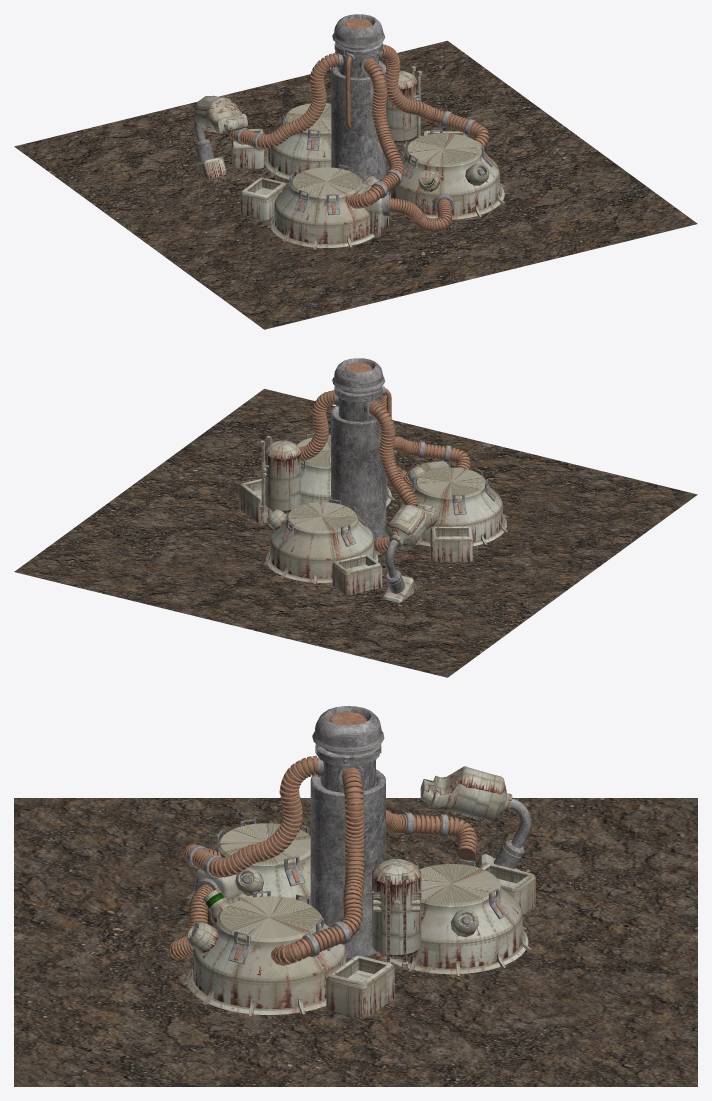
The model's file is static.fbx.
3 views of the same model, one above another, from view 1: azimuth 30°, elevation 25°; view 2: azimuth 150°, elevation 25°; view 3: azimuth 270°, elevation 25° (orthographic). The views are drawn at different scales.
Visible parts, largest first — view 1: scorch, Cylinder_7, Cylinder_5, Cylinder_3_2, Cylinder_3, Loft_remesh, Cube_21, Cylinder_1_remesh, Cylinder_8, Cube_2, Cube_61, Cube (+1 smaller); view 2: scorch, Cylinder_3, Cylinder_3_2, Cylinder_5, Cylinder_8, Cube_2, Loft_remesh, Cylinder_7, Cube_21, Cylinder_1_remesh, Cube_40, Cylinder_10 (+1 smaller); view 3: scorch, Cylinder_7, Cylinder_3, Cylinder_3_2, Cylinder_5, Loft_remesh, Cube_40, Cylinder_8, Cylinder_1_remesh, Cube_2, Sphere, Cylinder_1_3 (+6 smaller).
Boxes of the visible parts, <box> form: scorch: <box>14,40,697,329</box>; Cylinder_7: <box>388,133,499,215</box>; Cylinder_5: <box>274,167,370,243</box>; Cylinder_3_2: <box>331,60,386,181</box>; Cylinder_3: <box>268,103,331,175</box>; Loft_remesh: <box>194,95,247,133</box>; Cube_21: <box>240,177,285,219</box>; Cylinder_1_remesh: <box>332,14,384,48</box>; Cylinder_8: <box>386,82,417,140</box>; Cube_2: <box>231,129,264,168</box>; Cube_61: <box>357,184,388,236</box>; Cube: <box>191,157,226,179</box>; scorch: <box>14,389,697,677</box>; Cylinder_3: <box>270,502,373,578</box>; Cylinder_3_2: <box>331,406,386,540</box>; Cylinder_5: <box>398,467,502,542</box>; Cylinder_8: <box>265,451,300,510</box>; Cube_2: <box>332,554,382,595</box>; Loft_remesh: <box>384,503,437,550</box>; Cylinder_7: <box>297,435,386,504</box>; Cube_21: <box>430,526,473,561</box>; Cylinder_1_remesh: <box>332,358,385,392</box>; Cube_40: <box>238,478,287,523</box>; Cylinder_10: <box>338,389,378,421</box>; scorch: <box>14,798,697,1086</box>; Cylinder_7: <box>193,896,345,1008</box>; Cylinder_3: <box>401,864,522,968</box>; Cylinder_3_2: <box>310,769,385,958</box>; Cylinder_5: <box>195,823,310,902</box>; Loft_remesh: <box>420,766,512,823</box>; Cube_40: <box>326,955,394,1018</box>; Cylinder_8: <box>372,872,421,954</box>; Cylinder_1_remesh: <box>312,706,384,752</box>; Cube_2: <box>481,863,535,914</box>; Sphere: <box>372,859,421,959</box>; Cylinder_1_3: <box>187,967,326,1014</box>.
Size of the model in its own units: 1103 by 496 by 1103.
